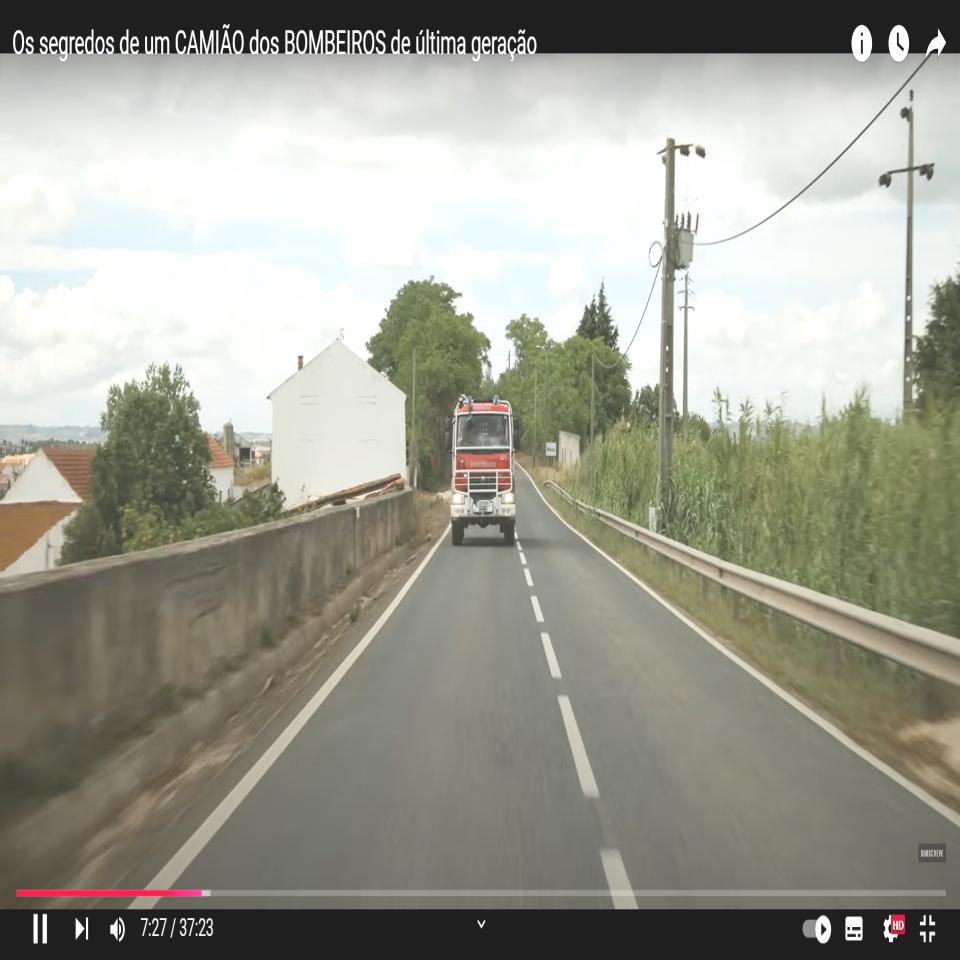bombeiro: (444, 394, 522, 547)
